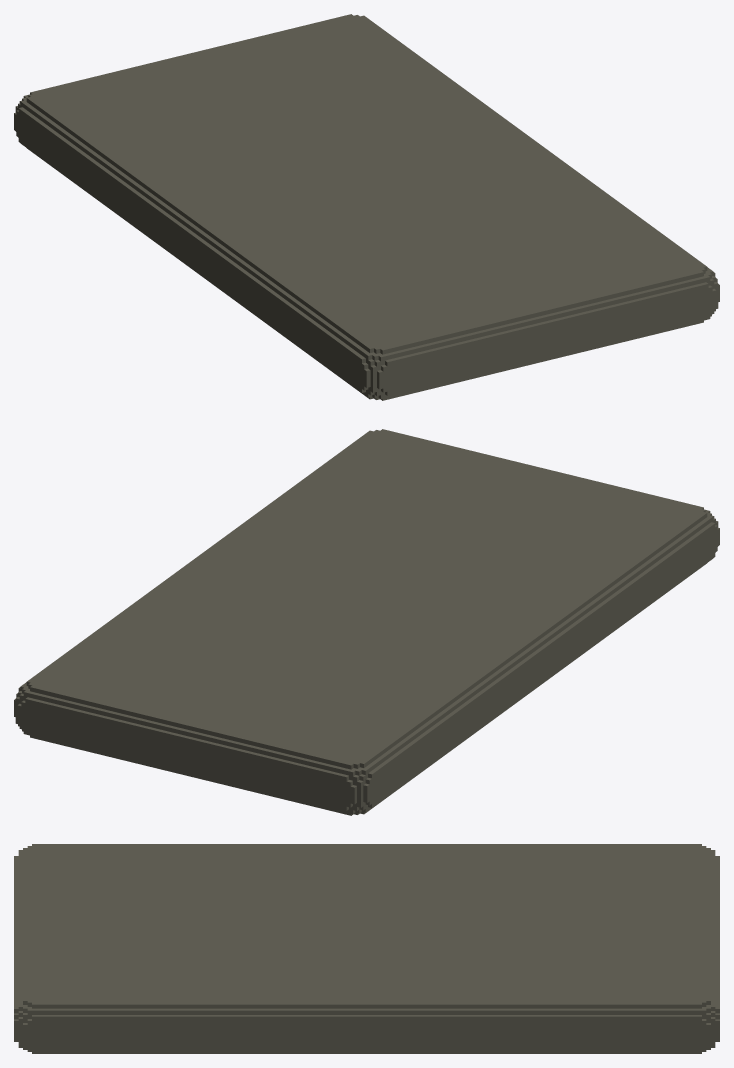
Rendered from factory4.5-26.obj.
The picture shows the model from 3 angles, top to bottom: view 1: azimuth 30°, elevation 25°; view 2: azimuth 150°, elevation 25°; view 3: azimuth 270°, elevation 25°; orthographic projection. The views are drawn at different scales.
Size of the model in its own units: 8.8 by 1.2 by 15.6.
Materials: 1 (1 with a texture image).
